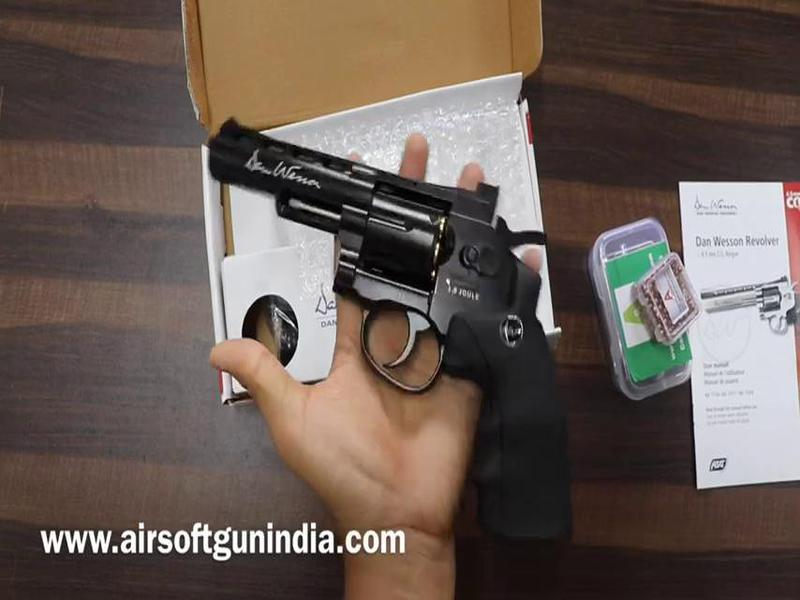Revolver: (191, 94, 597, 522)
